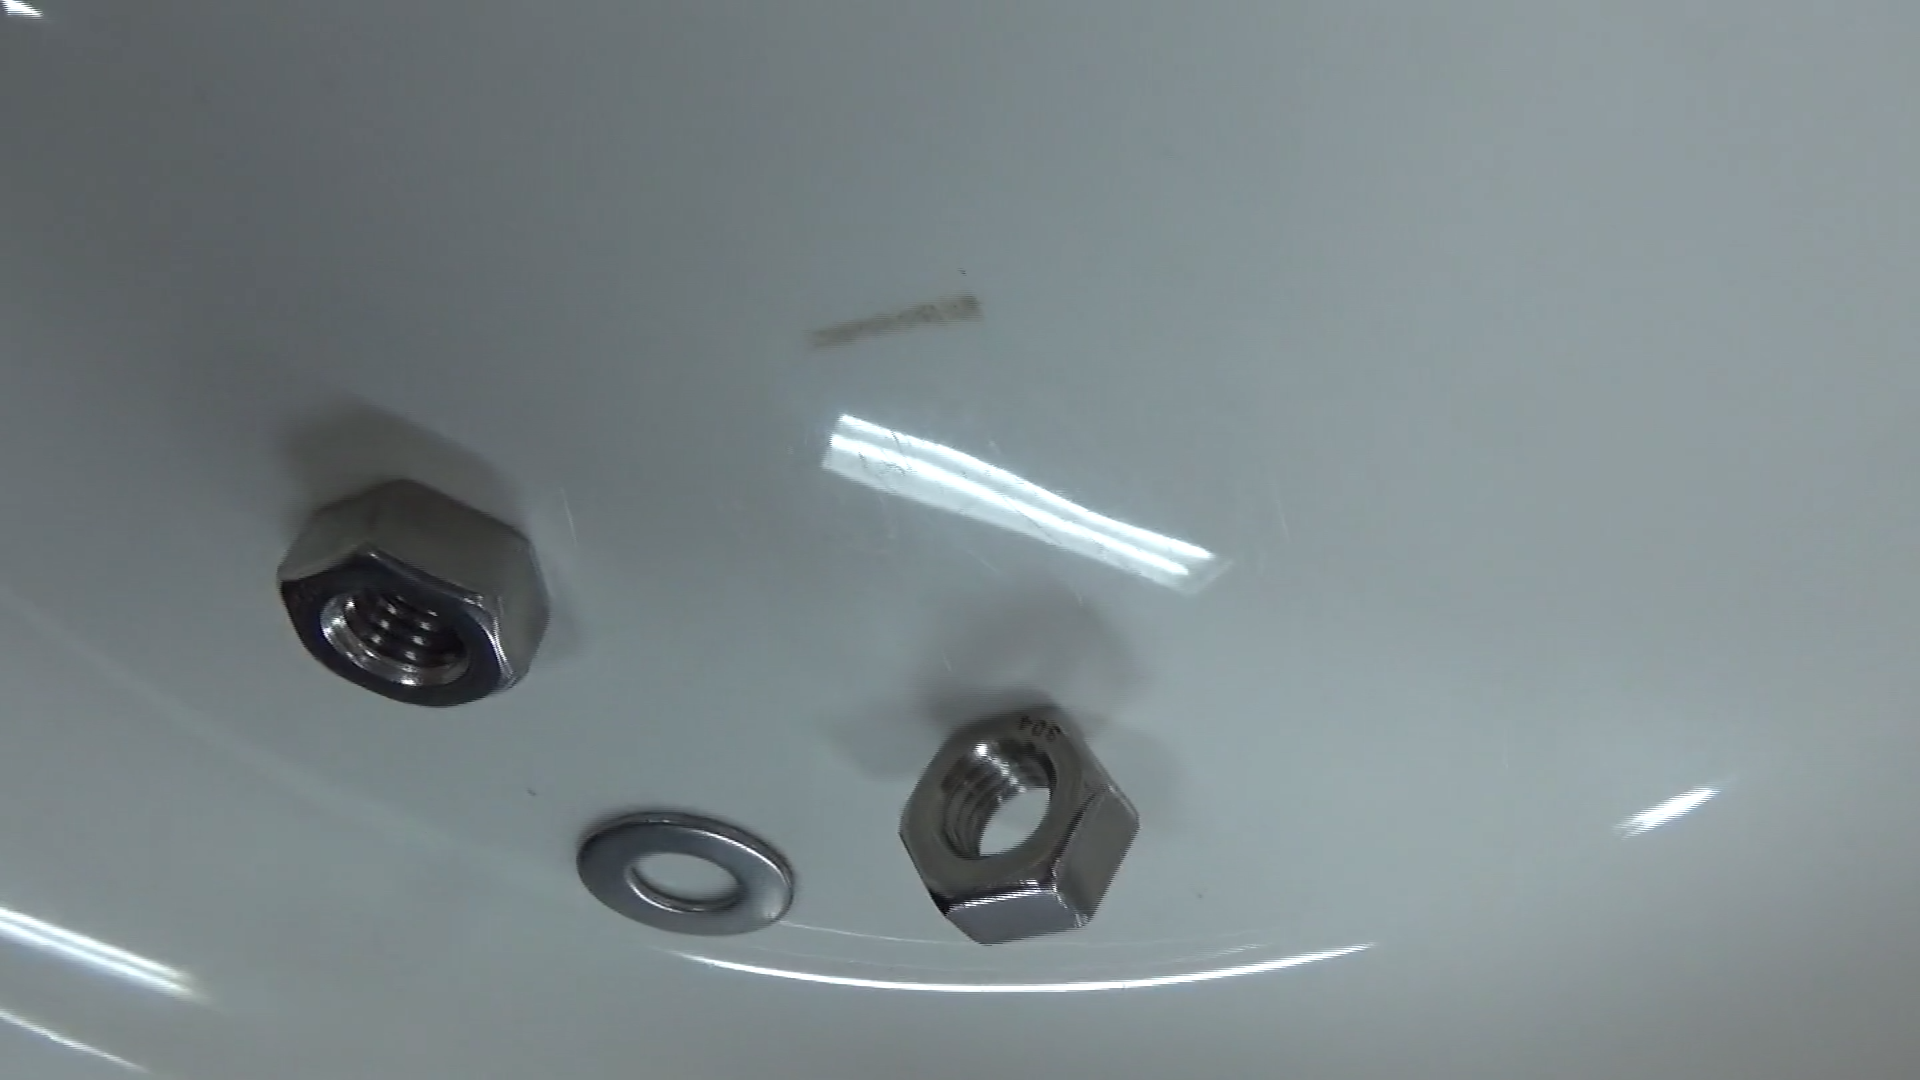nut: (257, 455, 563, 727), (881, 678, 1162, 967)
washer: (553, 785, 818, 959)
